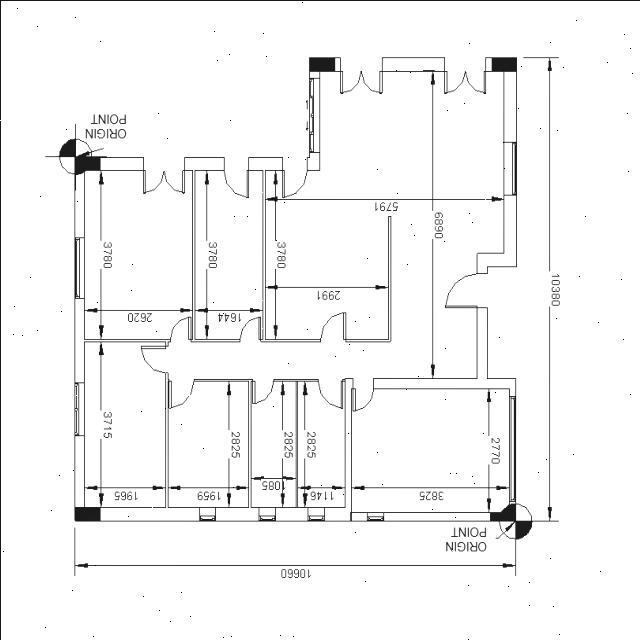Column: (74, 155, 100, 170), (491, 56, 516, 71), (74, 506, 100, 520), (308, 56, 334, 70), (489, 511, 515, 521)
Door: (444, 272, 486, 306), (223, 156, 248, 198), (282, 156, 306, 196), (320, 312, 346, 342), (168, 378, 194, 408), (317, 378, 342, 408), (140, 345, 167, 372), (352, 378, 372, 410), (238, 316, 260, 341), (252, 378, 274, 403), (170, 316, 190, 342)
Double-Door: (339, 56, 381, 94), (444, 56, 486, 94), (142, 156, 184, 192)
Window: (308, 77, 319, 152), (508, 395, 515, 504), (503, 140, 516, 194), (74, 236, 84, 298), (74, 381, 84, 435), (306, 506, 324, 520), (258, 506, 274, 520), (198, 506, 214, 520), (366, 512, 383, 520)
